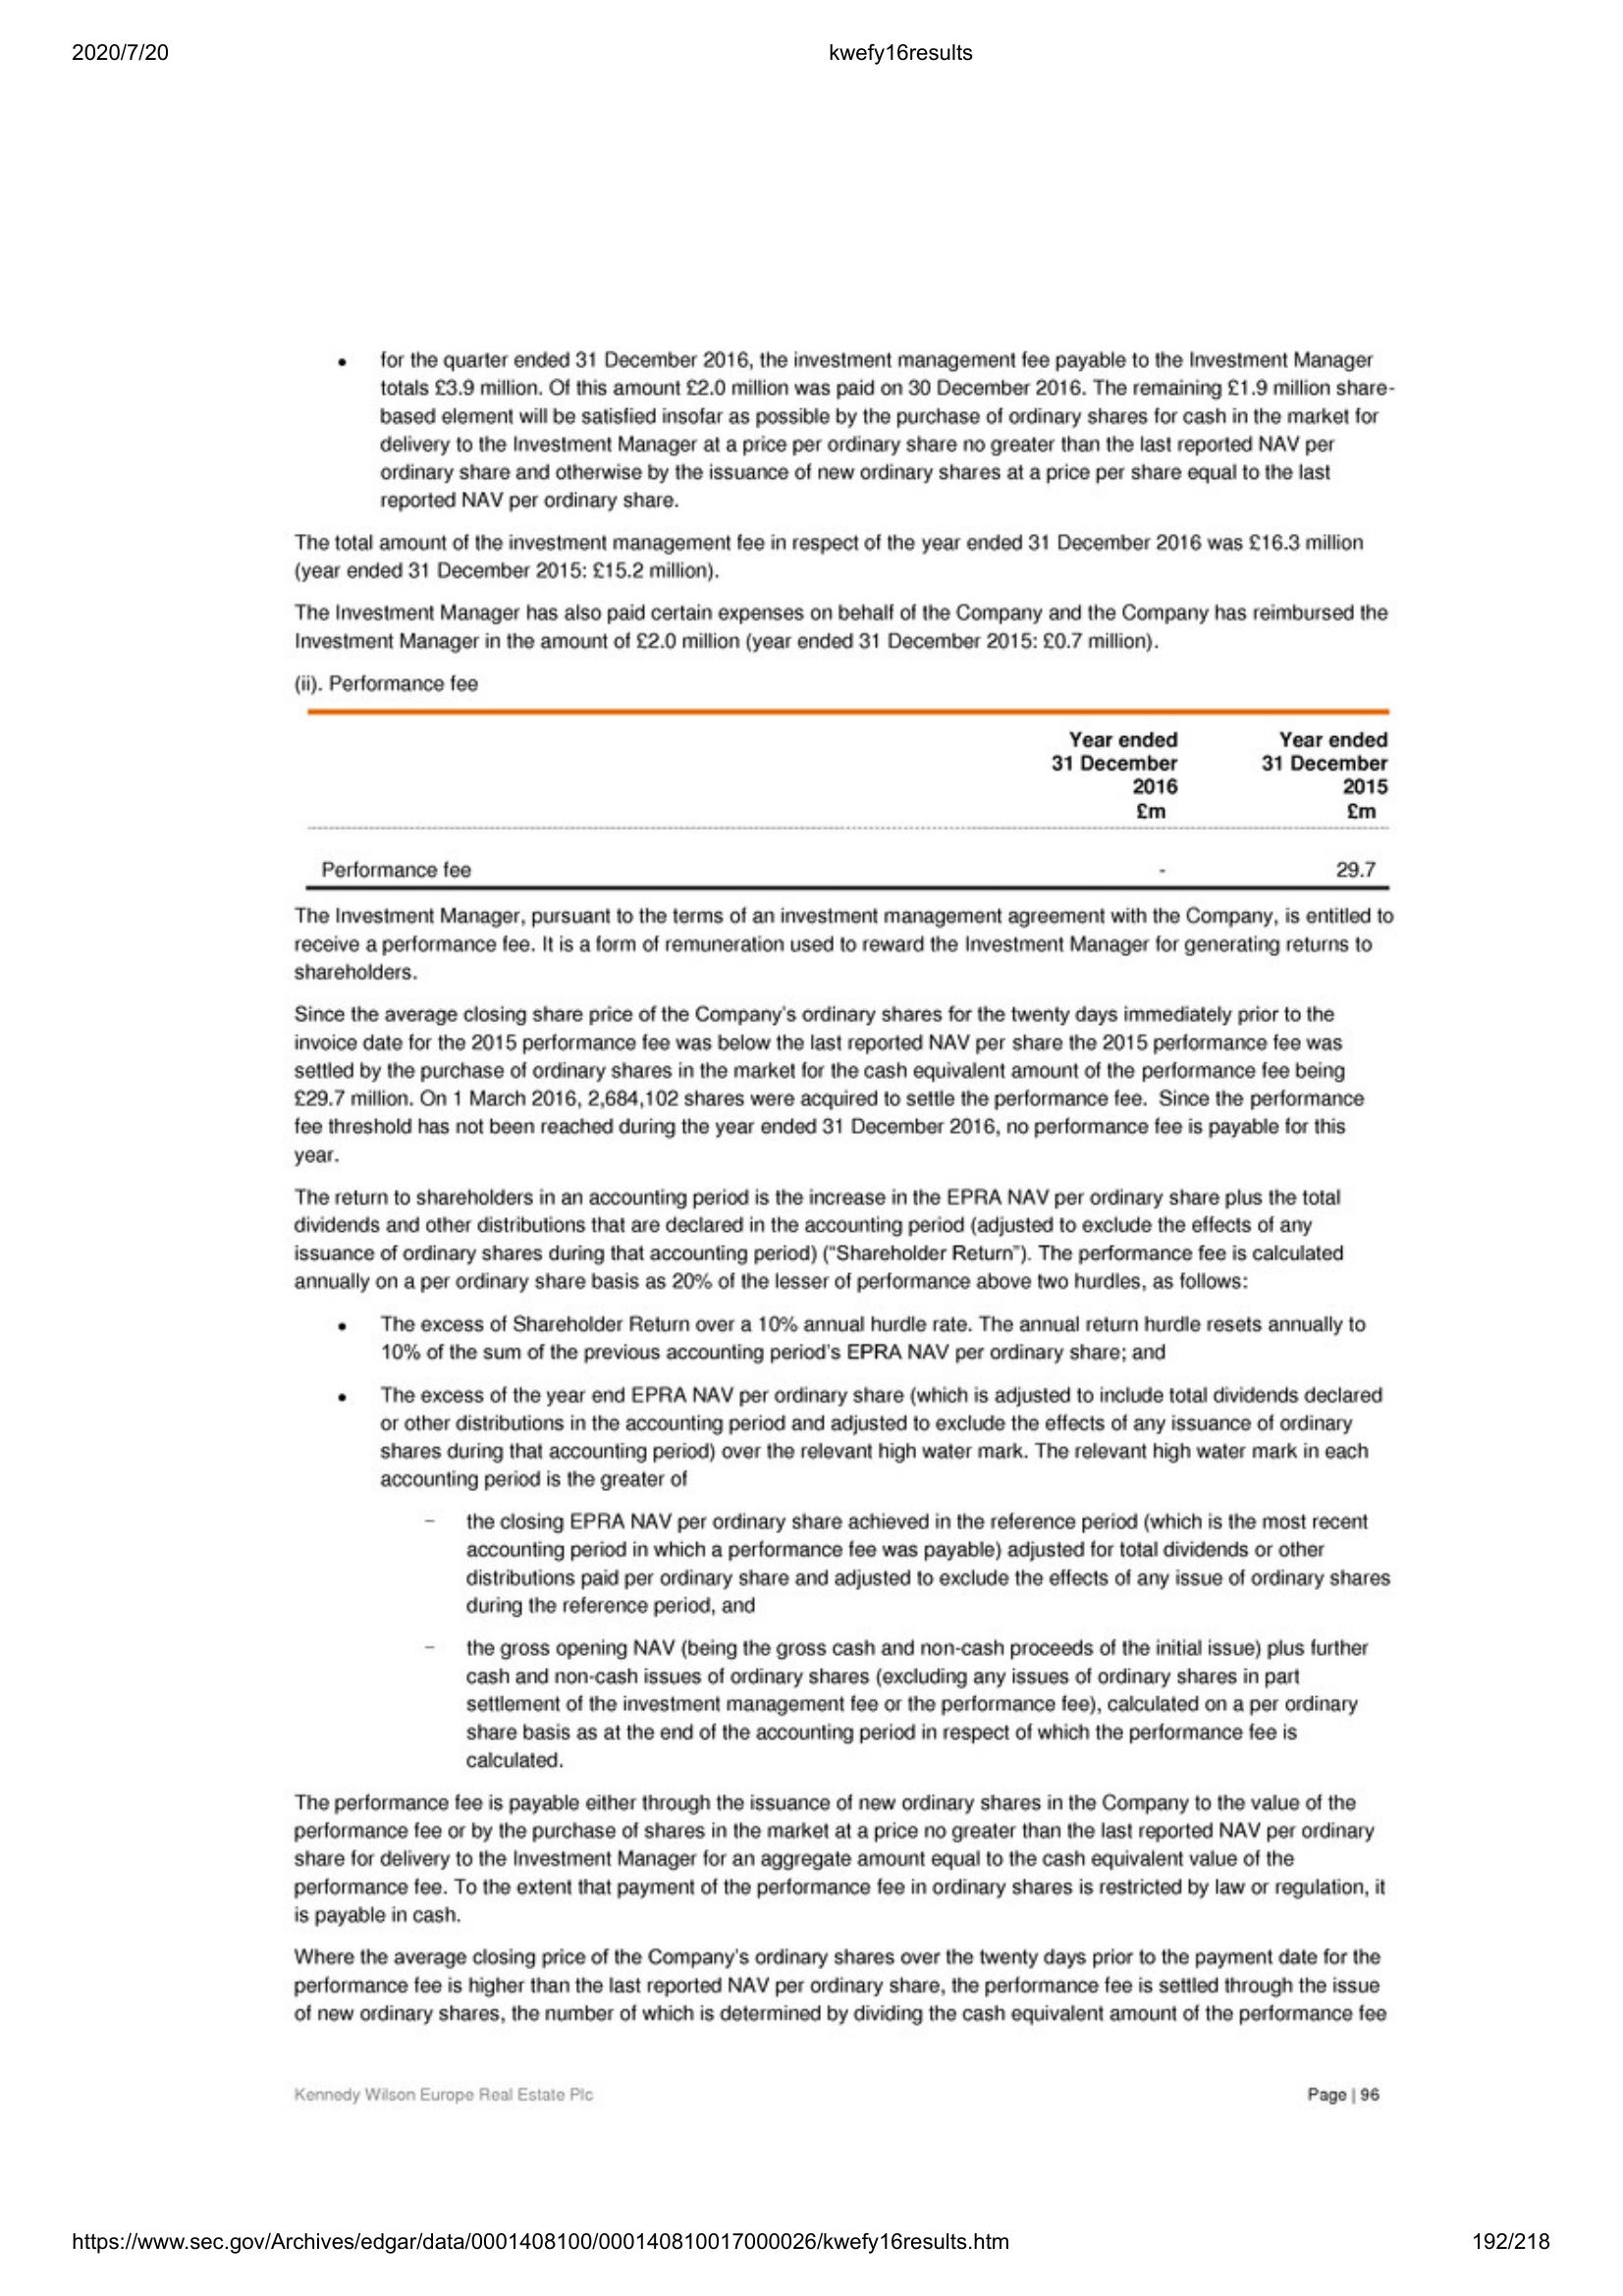table: (295, 706, 1400, 899)
